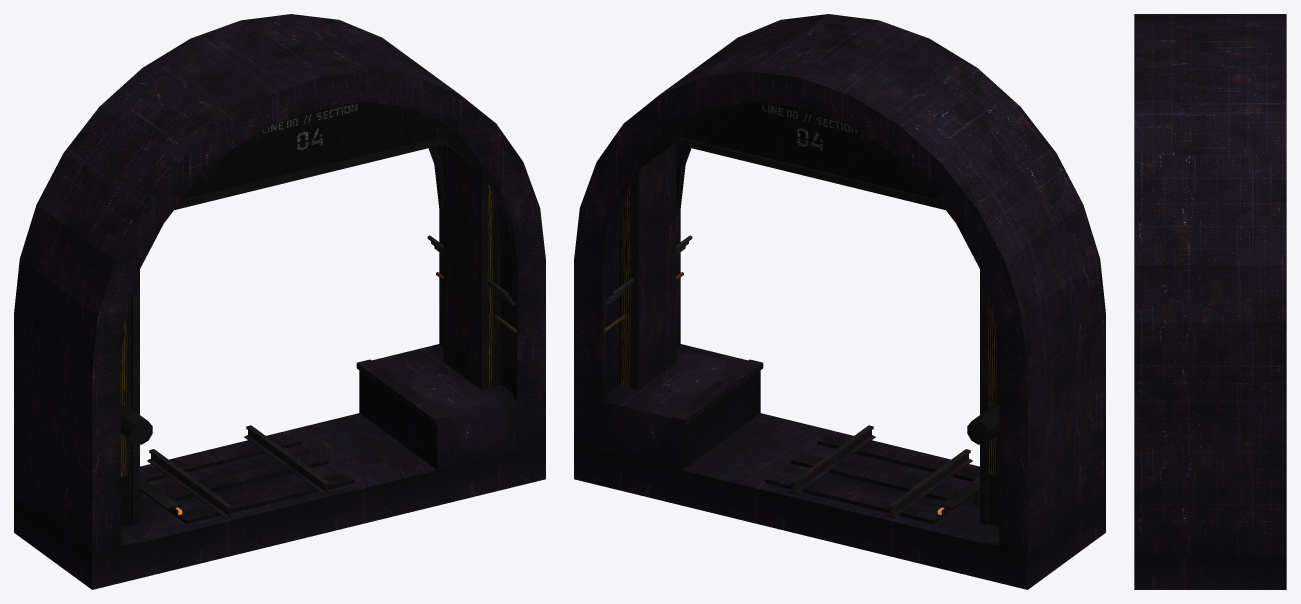
Rendered from tunnel_bulkhead.glb.
3 views of the same model, side by side, from view 1: azimuth 30°, elevation 25°; view 2: azimuth 150°, elevation 25°; view 3: azimuth 270°, elevation 25° (orthographic). The views are drawn at different scales.
Visible parts, largest first — view 1: body, decals; view 2: body, decals; view 3: body.
Part boxes in pixels (x1,y1,x2,y2): body: [14, 14, 545, 589]; decals: [120, 104, 498, 476]; body: [574, 14, 1105, 589]; decals: [621, 103, 997, 475]; body: [1134, 14, 1286, 589].
Size of what is drawn, in the model's own units: 6.7 by 6.45 by 2.
12 materials, 8 textured.
